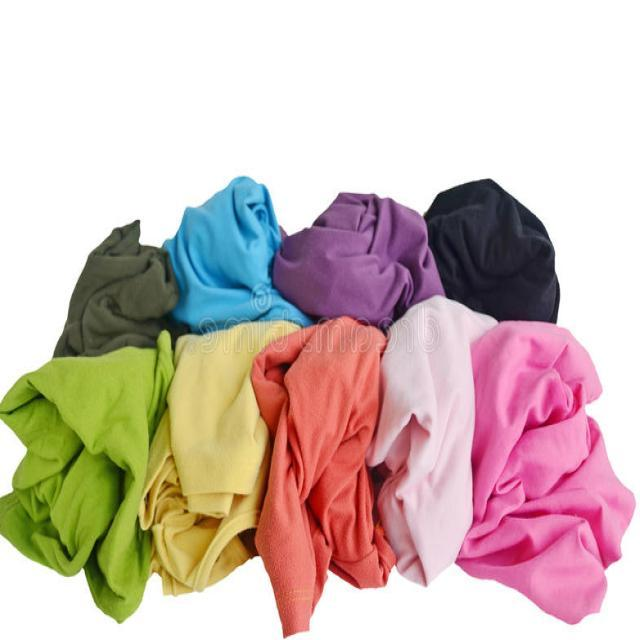clothes: (0, 216, 612, 598)
